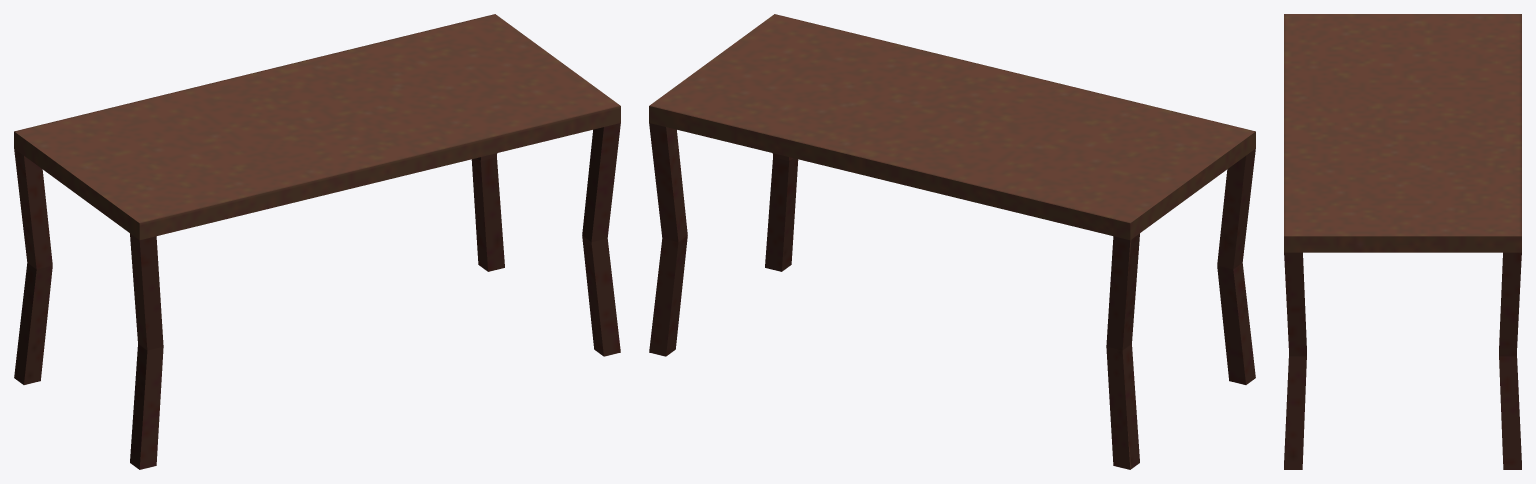
File: wooden_table 1.fbx
The picture shows the model from 3 angles, left to right: view 1: azimuth 30°, elevation 25°; view 2: azimuth 150°, elevation 25°; view 3: azimuth 270°, elevation 25°; orthographic projection. The views are drawn at different scales.
Visible parts, largest first — view 1: Table; view 2: Table; view 3: Table.
Boxes of the visible parts, left/top/right/bottom form: Table: left=14, top=14, right=620, bottom=469; Table: left=649, top=14, right=1255, bottom=469; Table: left=1284, top=14, right=1521, bottom=469.
Size of the model in its own units: 2.52 by 1.14 by 1.24.
Materials: 1 (1 with a texture image).
